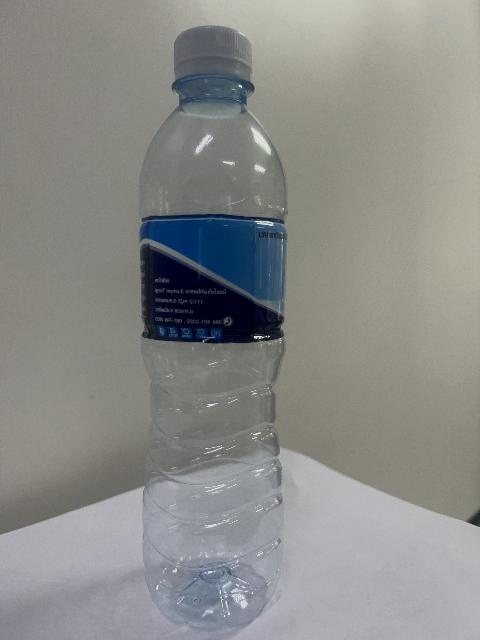bottle: (139, 27, 285, 629)
